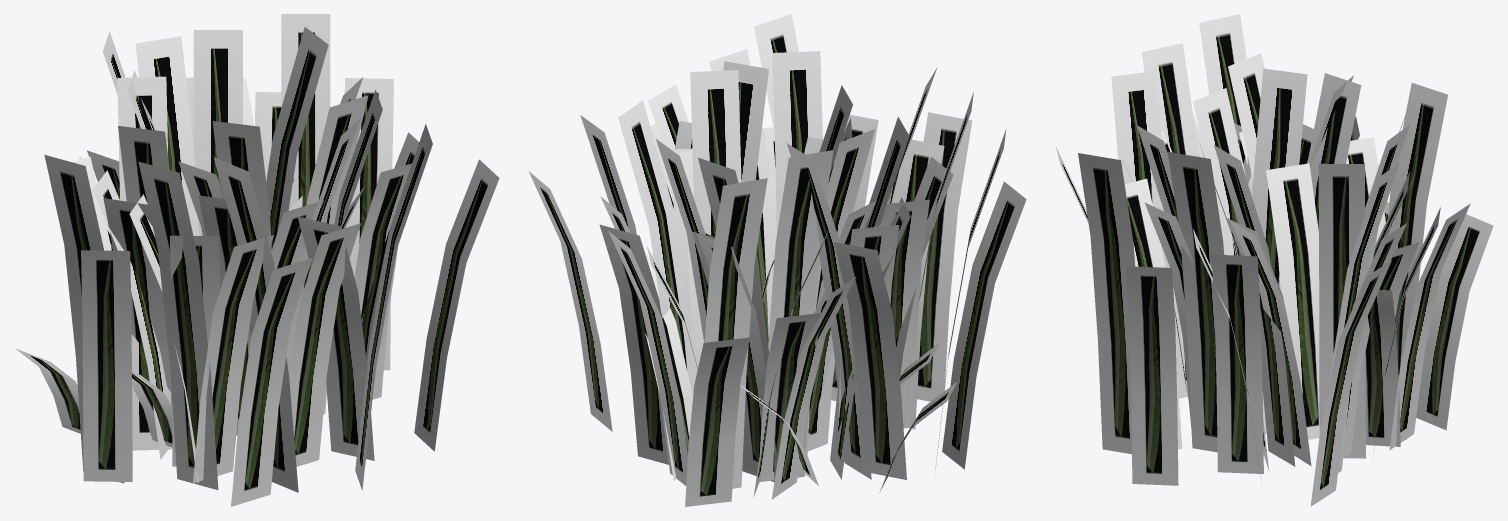
The model's file is single_grass.glb.
3 views of the same model, side by side, from view 1: azimuth 30°, elevation 25°; view 2: azimuth 150°, elevation 25°; view 3: azimuth 270°, elevation 25° (orthographic). The views are drawn at different scales.
Visible parts, largest first — view 1: pPlane24, pPlane30, pPlane40, pPlane32, pPlane9, pPlane41, pPlane59, pPlane20, pPlane25, pPlane55, pPlane46, pPlane31 (+24 smaller); view 2: pPlane48, pPlane28, pPlane42, pPlane30, pPlane40, pPlane21, pPlane46, pPlane36, pPlane23, pPlane26, pPlane43, pPlane58 (+30 smaller); view 3: pPlane37, pPlane41, pPlane7, pPlane12, pPlane19, pPlane46, pPlane42, pPlane28, pPlane44, pPlane23, pPlane39, pPlane47 (+19 smaller).
Part boxes in pixels (bbox=[...]): pPlane24: bbox=[138, 161, 218, 489]; pPlane30: bbox=[81, 250, 132, 481]; pPlane40: bbox=[231, 258, 312, 506]; pPlane32: bbox=[193, 235, 273, 483]; pPlane9: bbox=[289, 223, 360, 466]; pPlane41: bbox=[414, 159, 499, 451]; pPlane59: bbox=[297, 216, 374, 460]; pPlane20: bbox=[193, 30, 242, 235]; pPlane25: bbox=[44, 154, 124, 483]; pPlane55: bbox=[213, 157, 298, 492]; pPlane46: bbox=[266, 27, 328, 248]; pPlane31: bbox=[281, 14, 330, 210]; pPlane48: bbox=[834, 242, 906, 479]; pPlane28: bbox=[704, 178, 767, 488]; pPlane42: bbox=[685, 337, 749, 506]; pPlane30: bbox=[942, 181, 1026, 469]; pPlane40: bbox=[917, 112, 972, 401]; pPlane21: bbox=[768, 150, 833, 454]; pPlane46: bbox=[618, 100, 695, 396]; pPlane36: bbox=[599, 224, 668, 464]; pPlane23: bbox=[690, 70, 741, 237]; pPlane26: bbox=[772, 51, 822, 235]; pPlane43: bbox=[786, 143, 871, 479]; pPlane58: bbox=[880, 199, 929, 428]; pPlane37: bbox=[1078, 153, 1135, 454]; pPlane41: bbox=[1126, 266, 1178, 485]; pPlane7: bbox=[1211, 254, 1263, 473]; pPlane12: bbox=[1167, 152, 1224, 452]; pPlane19: bbox=[1266, 163, 1319, 439]; pPlane46: bbox=[1318, 163, 1365, 458]; pPlane42: bbox=[1416, 214, 1493, 430]; pPlane28: bbox=[1386, 83, 1447, 439]; pPlane44: bbox=[1252, 68, 1307, 289]; pPlane23: bbox=[1214, 145, 1295, 466]; pPlane39: bbox=[1310, 260, 1391, 506]; pPlane47: bbox=[1389, 203, 1470, 450].
Size of the model in its own units: 88.05 by 69.18 by 85.15.
Materials: 1 (1 with a texture image).
